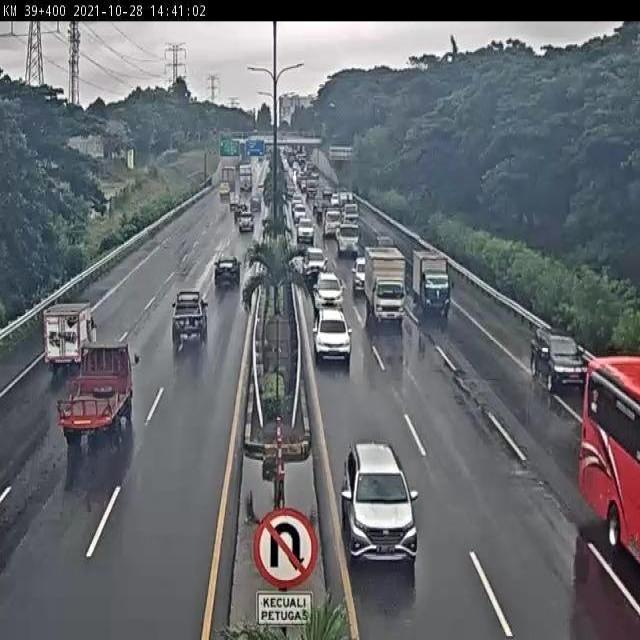ARABA: (341, 439, 417, 565), (531, 324, 592, 393), (171, 287, 209, 345), (314, 306, 351, 362), (312, 272, 345, 315), (213, 253, 241, 287)
KAMYONET: (59, 338, 135, 434), (44, 301, 98, 371), (364, 244, 407, 324), (412, 248, 451, 313)
